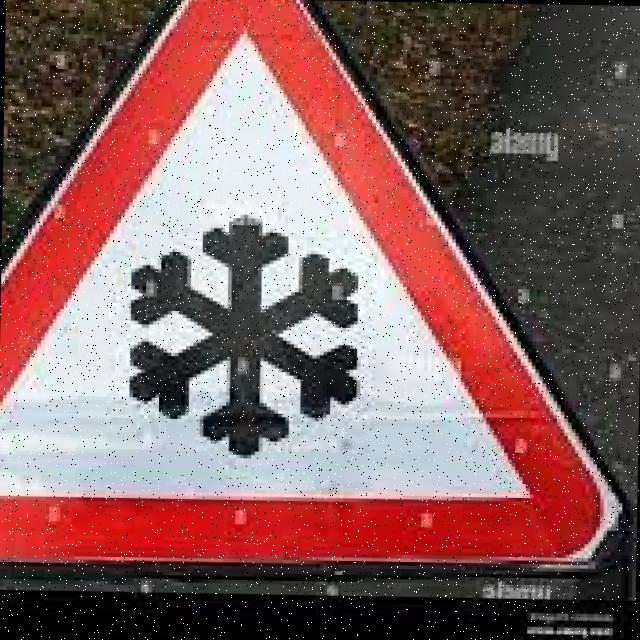snow_warning: (0, 0, 640, 579)
